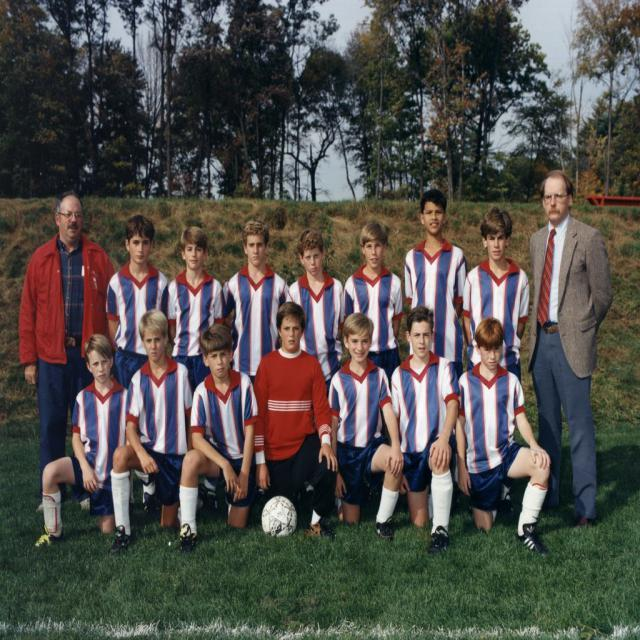football: (252, 494, 308, 541)
